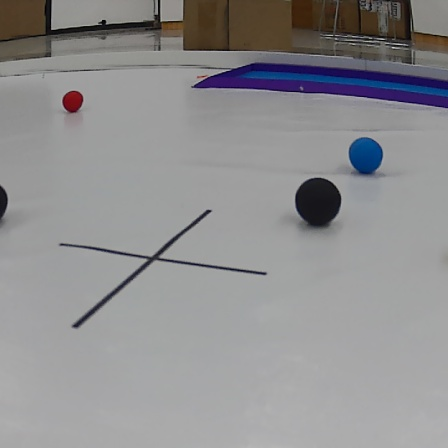black: (293, 174, 344, 227)
blue: (346, 131, 387, 174)
blue_aim: (200, 57, 448, 113)
red: (60, 87, 87, 112)
